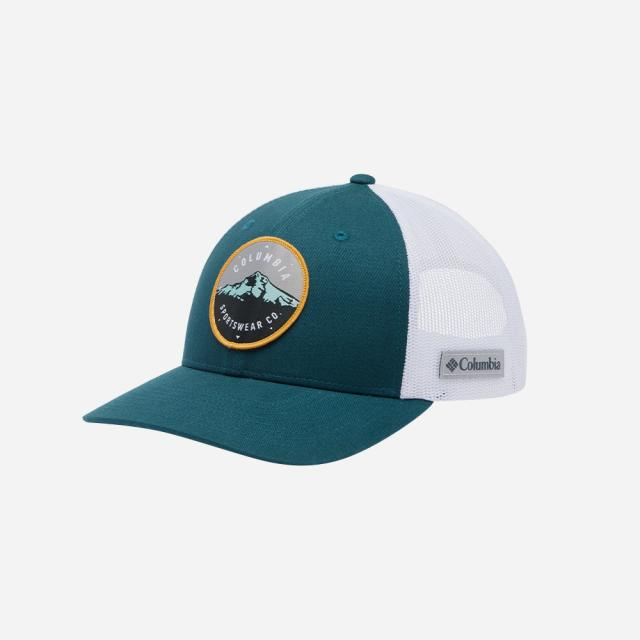Nonhelmet: (80, 170, 530, 468)
